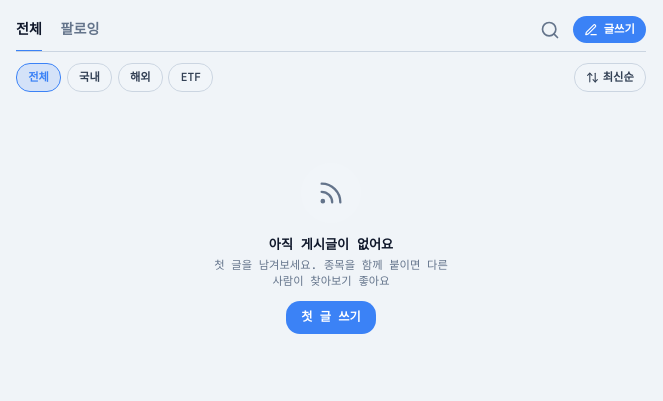
Scenario: 검색창 › 화면에 있다 — 돋보기를 누르면 칸이 펴진다
Click the button named "검색" at (550, 30), box x1=532 y1=12 x2=567 y2=47
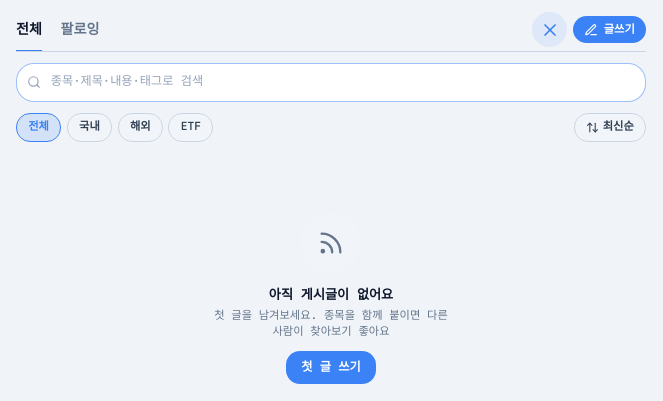
expect the search field named "피드 검색" is shown: met, box x1=16 y1=63 x2=646 y2=102
